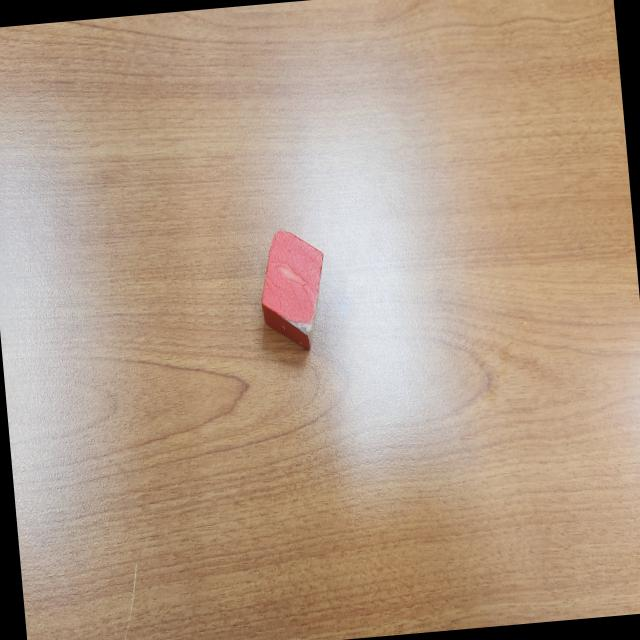broken: (256, 225, 331, 352)
